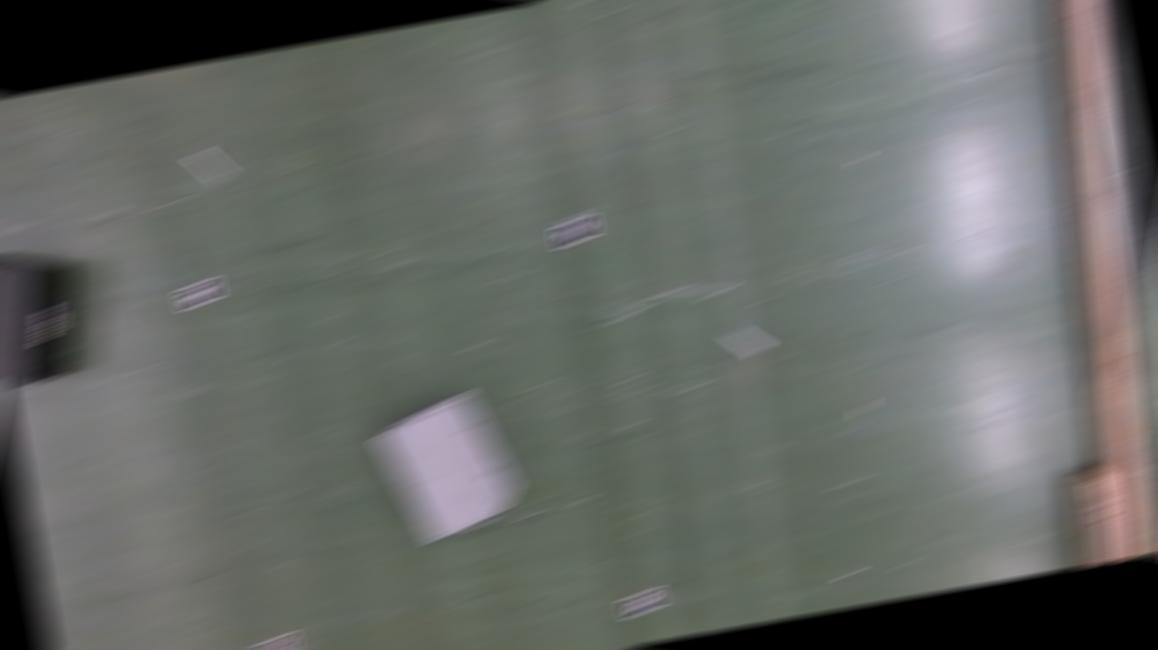probes: (724, 324, 768, 356), (190, 146, 229, 182)
rako: (368, 384, 524, 542), (0, 238, 97, 387)
